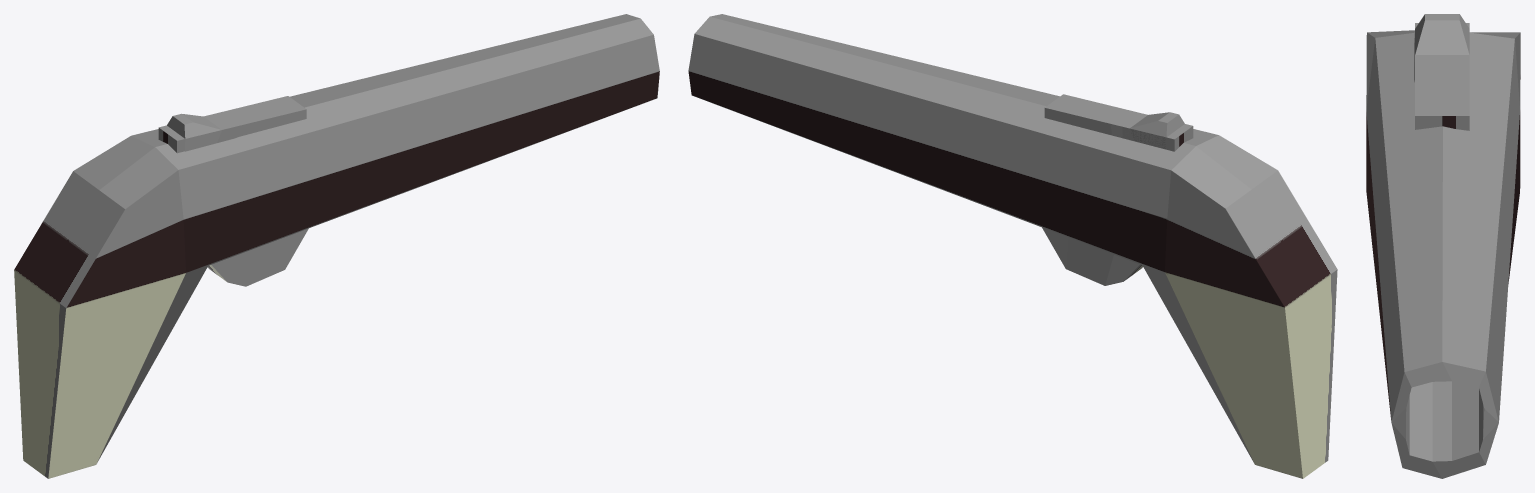
File: pistola_matecocido.fbx
The picture shows the model from 3 angles, left to right: view 1: azimuth 30°, elevation 25°; view 2: azimuth 150°, elevation 25°; view 3: azimuth 270°, elevation 25°; orthographic projection. The views are drawn at different scales.
Visible parts, largest first — view 1: Cube; view 2: Cube; view 3: Cube.
Boxes of the visible parts, x1=… form: Cube: x1=14, y1=14, x2=659, y2=478; Cube: x1=688, y1=14, x2=1337, y2=478; Cube: x1=1366, y1=14, x2=1520, y2=478.
Bounding box in the file's own units: 30.88 × 15.24 × 4.6.
1 material, 1 textured.
